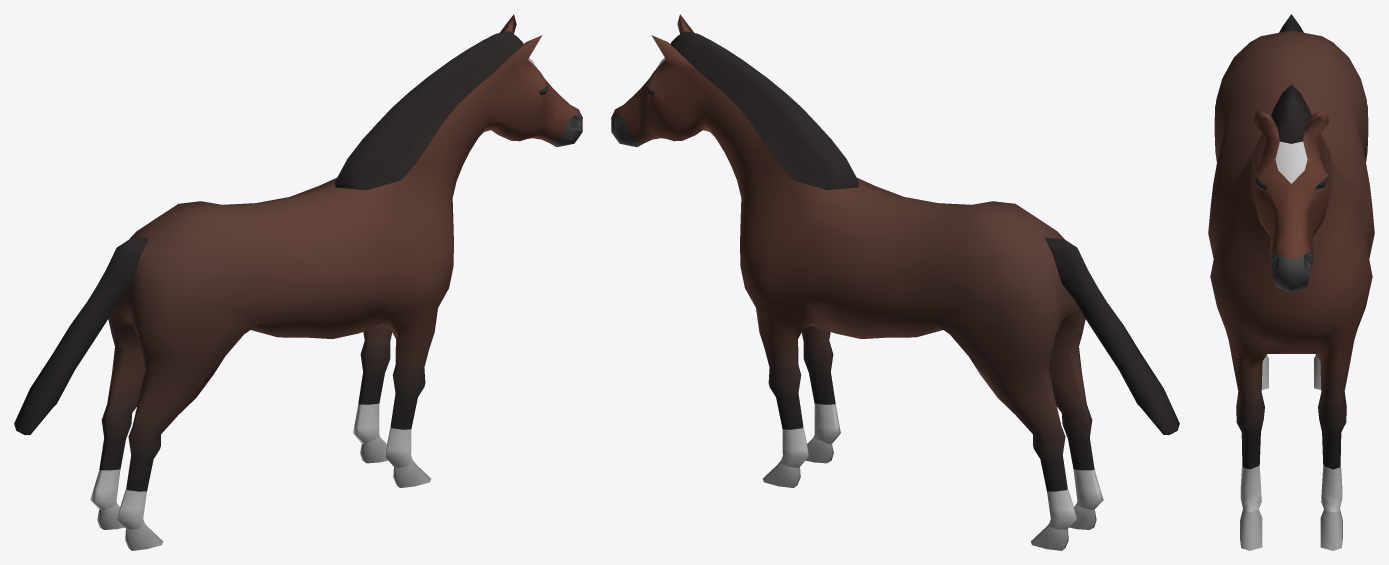
Rendered from sn_horse.glb.
3 views of the same model, side by side, from view 1: azimuth 30°, elevation 25°; view 2: azimuth 150°, elevation 25°; view 3: azimuth 270°, elevation 25° (orthographic). The views are drawn at different scales.
Visible parts, largest first — view 1: sn_horse; view 2: sn_horse; view 3: sn_horse.
Boxes of the visible parts, x1,y1,x2,y2 form: sn_horse: (14,14,582,550); sn_horse: (611,14,1179,550); sn_horse: (1208,14,1374,550).
Bounding box in the file's own units: 2.51 × 1.75 × 0.5186.
